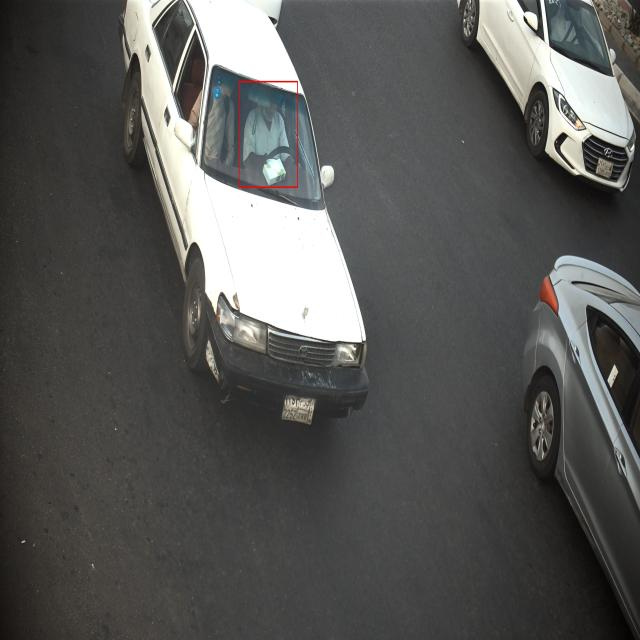windshield: (200, 58, 330, 225), (543, 0, 620, 80)
